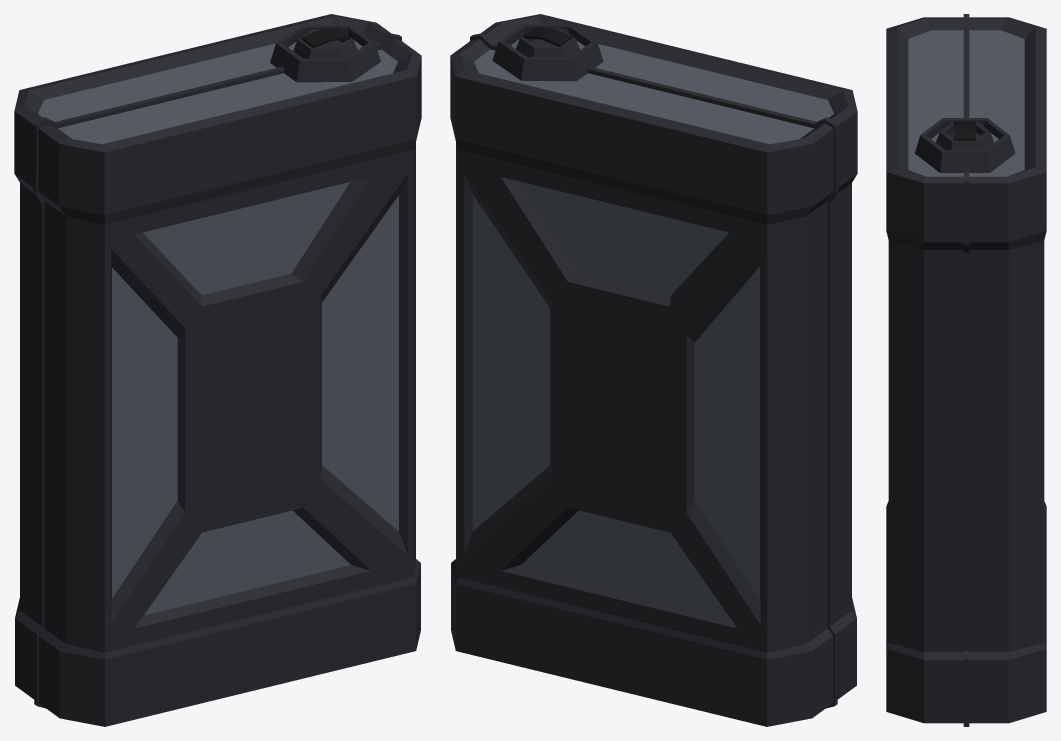
File: SM_Canister.glb
3 views of the same model, side by side, from view 1: azimuth 30°, elevation 25°; view 2: azimuth 150°, elevation 25°; view 3: azimuth 270°, elevation 25° (orthographic). The views are drawn at different scales.
Parts seen in each view (by area): view 1: SM_Canister; view 2: SM_Canister; view 3: SM_Canister.
Part boxes in pixels (box(x1,y1,x2,y2)): SM_Canister: box(14, 14, 421, 726); SM_Canister: box(450, 14, 857, 726); SM_Canister: box(886, 14, 1046, 726).
Bounding box in the file's own units: 0.3167 × 0.5004 × 0.1278.
Materials: 1 (1 with a texture image).
